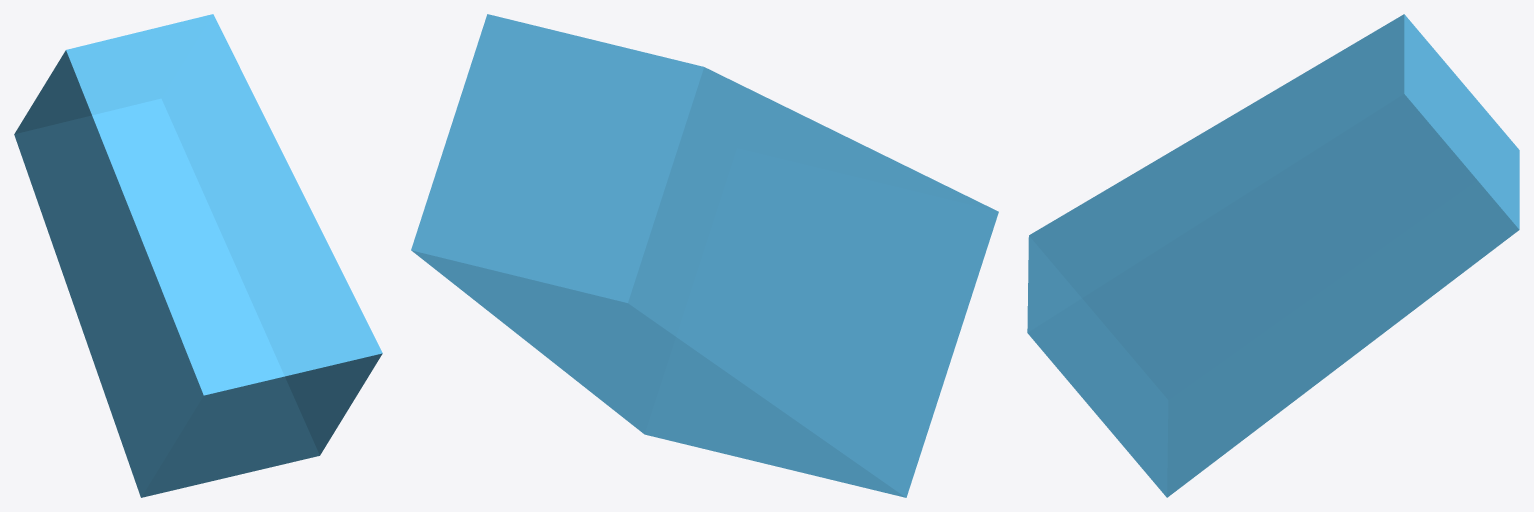
The model's file is Event_421278790_HBrechit_3.fbx.
3 views of the same model, side by side, from view 1: azimuth 30°, elevation 25°; view 2: azimuth 150°, elevation 25°; view 3: azimuth 270°, elevation 25° (orthographic). The views are drawn at different scales.
Visible parts, largest first — view 1: Model; view 2: Model; view 3: Model.
Part boxes in pixels (x1,y1,x2,y2): Model: [14, 14, 382, 497]; Model: [411, 14, 998, 497]; Model: [1027, 14, 1519, 497].
Size of the model in its own units: 0.4858 by 0.9464 by 1.04.
